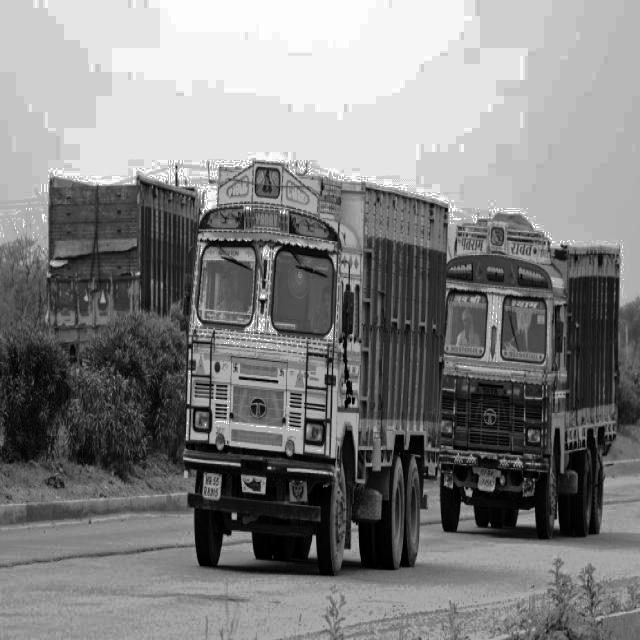HCV: (152, 96, 454, 592)
